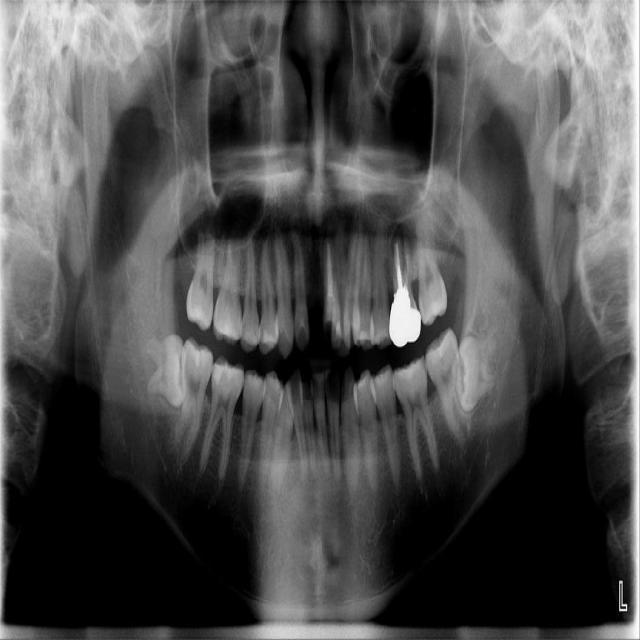52: (172, 332, 228, 390), (203, 354, 252, 405), (389, 294, 421, 348), (368, 366, 399, 408), (350, 372, 378, 413), (351, 306, 375, 350), (256, 315, 281, 355), (331, 305, 350, 357), (240, 312, 261, 353)
73: (391, 222, 414, 301), (323, 233, 339, 319), (608, 585, 618, 603)
BioHorizons Implant: (415, 213, 448, 326)
Biomet 3i Implant: (454, 335, 498, 413)
Blue Sky Bio Implant: (420, 326, 475, 446)
Caries: (185, 224, 217, 330)
Implant: (173, 335, 216, 452)
Keystone Dental Implant: (145, 333, 189, 409)
